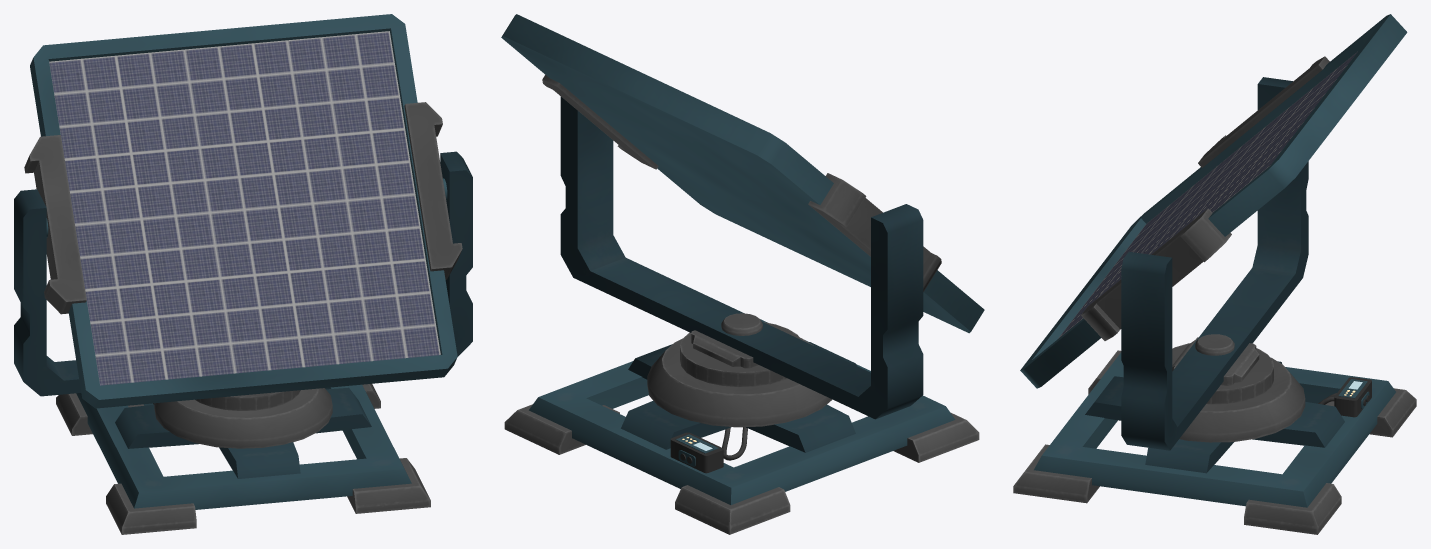
The model's file is SolarStation.fbx.
3 renders of one model, left to right at view 1: azimuth 30°, elevation 25°; view 2: azimuth 150°, elevation 25°; view 3: azimuth 270°, elevation 25°, orthographic. The views are drawn at different scales.
Visible parts, largest first — view 1: panel_low, base_low, support_low, sensors_low, bigbutton_low, legs_low, base1_low, smallbutton_low; view 2: support_low, panel_low, base_low, bigbutton_low, legs_low, base1_low, sensors_low, smallbutton_low, h1_low, electrobox_low, rivet_low; view 3: support_low, panel_low, base_low, legs_low, sensors_low, base1_low, bigbutton_low, smallbutton_low, h1_low, electrobox_low, rivet_low.
Part boxes in pixels (x1,y1,x2,y2): panel_low: [30, 14, 457, 408]; base_low: [76, 384, 411, 509]; support_low: [14, 151, 472, 396]; sensors_low: [24, 102, 462, 314]; bigbutton_low: [154, 388, 332, 448]; legs_low: [56, 383, 430, 534]; base1_low: [115, 387, 371, 478]; smallbutton_low: [195, 390, 300, 410]; support_low: [560, 96, 923, 419]; panel_low: [501, 14, 984, 333]; base_low: [529, 319, 955, 504]; bigbutton_low: [647, 337, 832, 427]; legs_low: [504, 404, 979, 534]; base1_low: [621, 342, 856, 452]; sensors_low: [542, 75, 941, 291]; smallbutton_low: [680, 322, 801, 386]; h1_low: [691, 330, 758, 368]; electrobox_low: [670, 432, 723, 473]; rivet_low: [721, 313, 762, 335]; support_low: [1121, 77, 1308, 450]; panel_low: [1020, 14, 1407, 388]; base_low: [1034, 352, 1395, 507]; legs_low: [1013, 350, 1416, 534]; sensors_low: [1081, 56, 1329, 340]; base1_low: [1085, 361, 1344, 473]; bigbutton_low: [1179, 357, 1305, 442]; smallbutton_low: [1172, 343, 1273, 404]; h1_low: [1172, 337, 1259, 385]; electrobox_low: [1334, 377, 1371, 417]; rivet_low: [1195, 334, 1234, 355].
Size of the model in its own units: 2748 by 2520 by 2426.
1 material, 1 textured.
